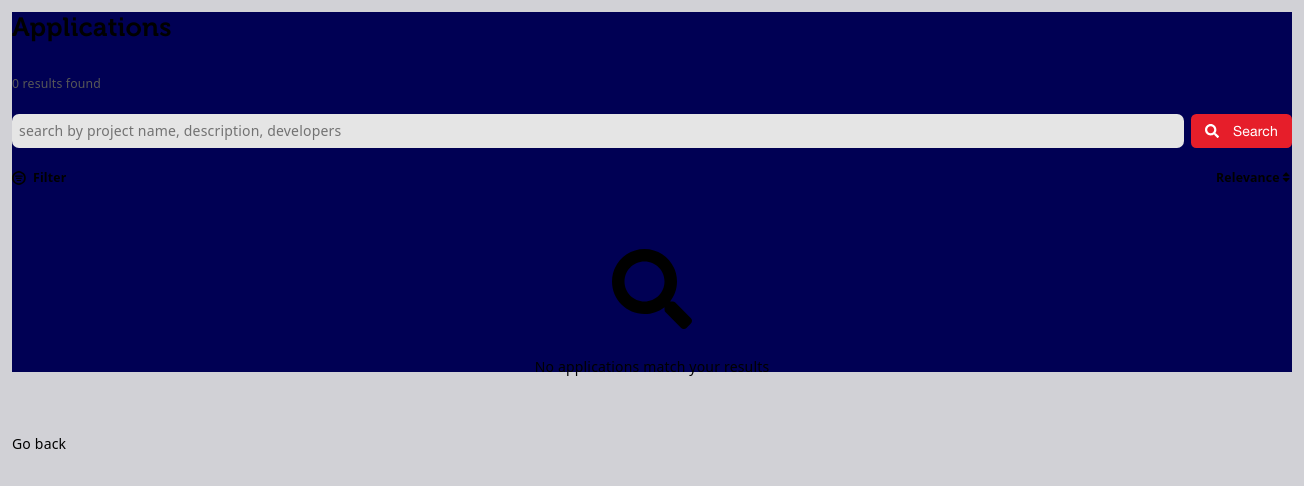
SearchResultsPage › filters › names the filter in the message when nothing matches it
The width and height of the screenshot is (1304, 486).
Check: the text "No applications match your results" is shown, box top-left (535, 357), bottom-right (769, 378)
Click the button "Filter" at x=39, y=178, box top-left (12, 169), bottom-right (66, 186)
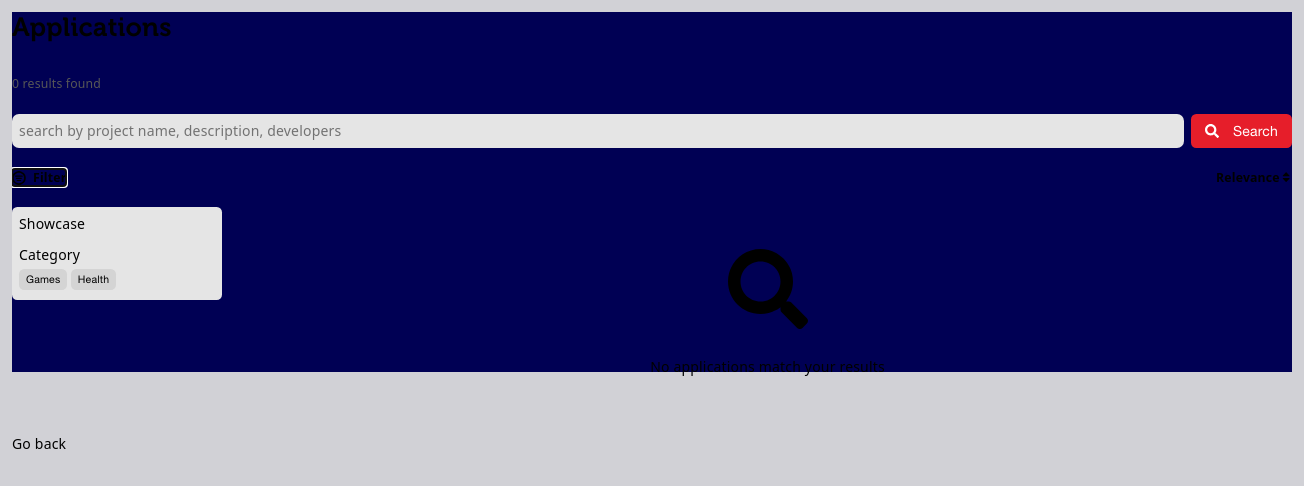
Click the button "Games" at x=43, y=279, box top-left (19, 269), bottom-right (67, 290)
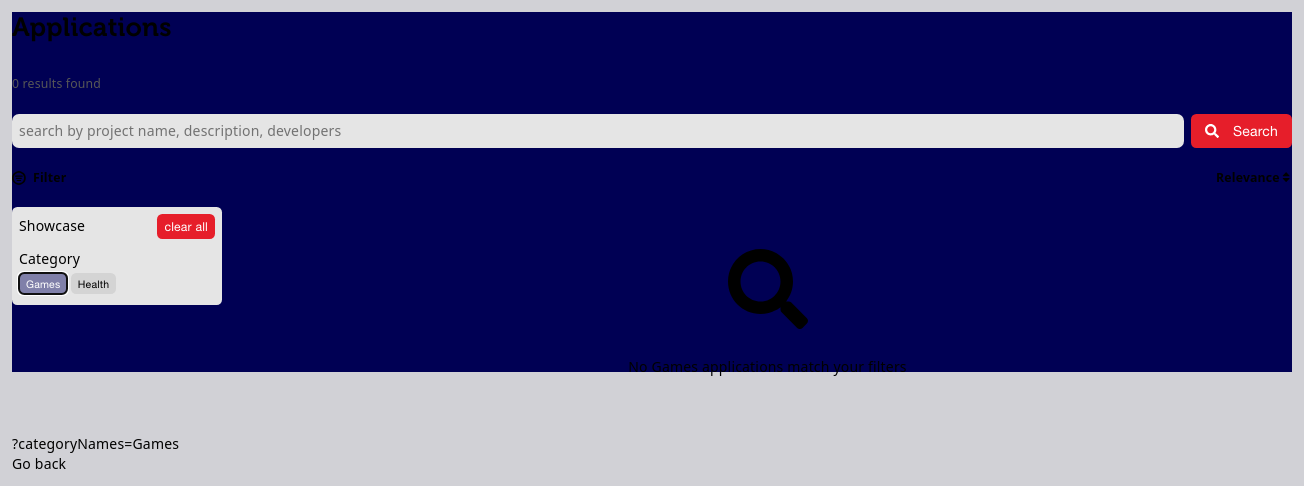
Check: the text "No Games applications match your filters" is shown, box top-left (628, 357), bottom-right (907, 378)
